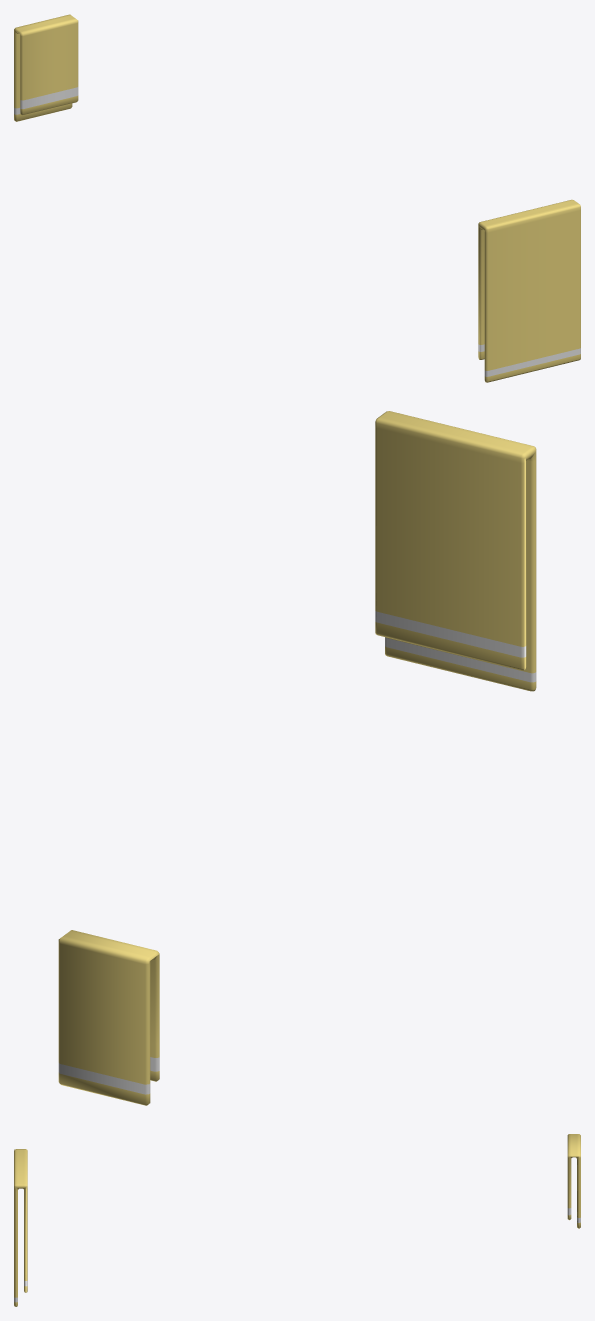
The model's file is Towels.fbx.
3 views of the same model, one above another, from view 1: azimuth 30°, elevation 25°; view 2: azimuth 150°, elevation 25°; view 3: azimuth 270°, elevation 25° (orthographic). The views are drawn at different scales.
Parts seen in each view (by area): view 1: Shower_towel, Shower_towel.001; view 2: Shower_towel, Shower_towel.001; view 3: Shower_towel, Shower_towel.001.
Boxes of the visible parts, bbox=[...] form: Shower_towel: bbox=[478, 199, 580, 382]; Shower_towel.001: bbox=[14, 14, 78, 121]; Shower_towel: bbox=[375, 411, 536, 691]; Shower_towel.001: bbox=[58, 930, 159, 1105]; Shower_towel: bbox=[14, 1149, 27, 1306]; Shower_towel.001: bbox=[567, 1134, 580, 1228].
Bounding box in the file's own units: 212 × 152 × 636.
